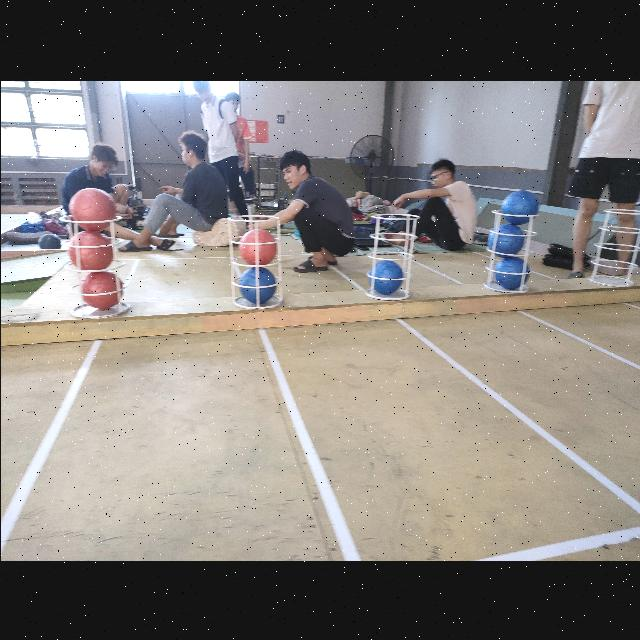B: (497, 186, 539, 222), (238, 264, 274, 304), (366, 258, 404, 294), (492, 256, 530, 290), (486, 223, 526, 254)
R: (68, 186, 116, 232), (68, 233, 112, 270), (80, 271, 122, 309), (238, 226, 278, 264)
